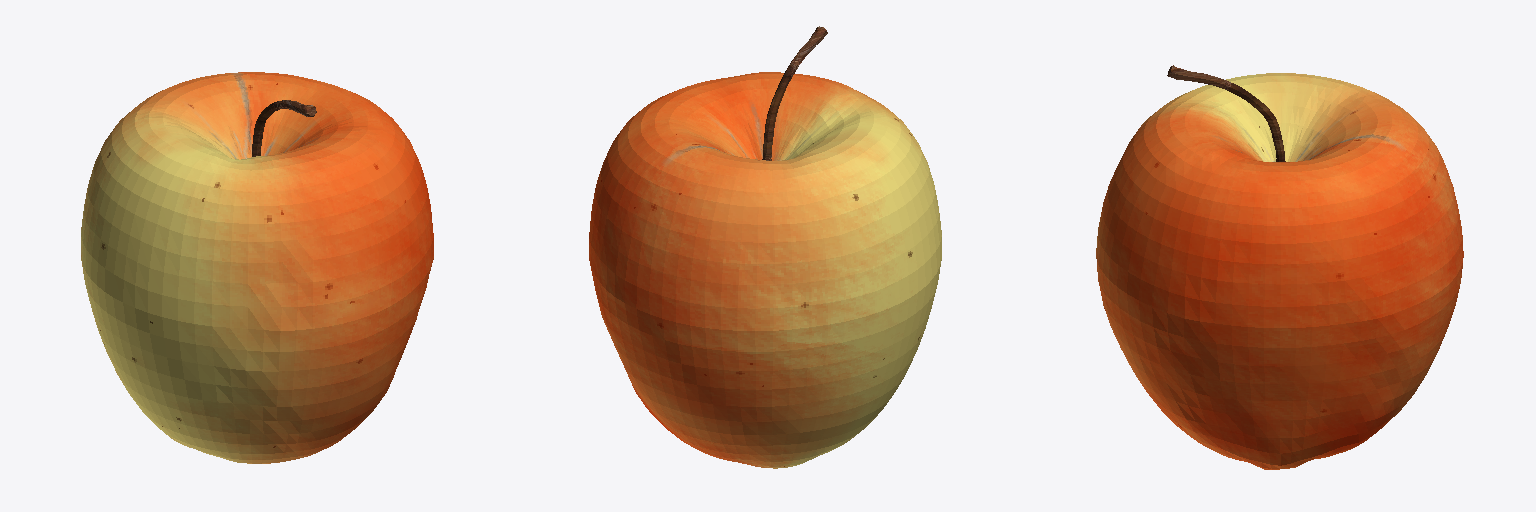
3 renders of one model, left to right at view 1: azimuth 30°, elevation 25°; view 2: azimuth 150°, elevation 25°; view 3: azimuth 270°, elevation 25°, orthographic.
Parts seen in each view (by area): view 1: apple_skin, apple_stem; view 2: apple_skin, apple_stem; view 3: apple_skin, apple_stem.
Boxes of the visible parts, <box> form: apple_skin: <box>81,72,433,463</box>; apple_stem: <box>252,100,316,156</box>; apple_skin: <box>589,72,941,468</box>; apple_stem: <box>762,26,827,160</box>; apple_skin: <box>1096,73,1463,469</box>; apple_stem: <box>1167,65,1285,161</box>.
Bounding box in the file's own units: 3.4 × 4.1 × 3.59.
Materials: 2 (2 with a texture image).